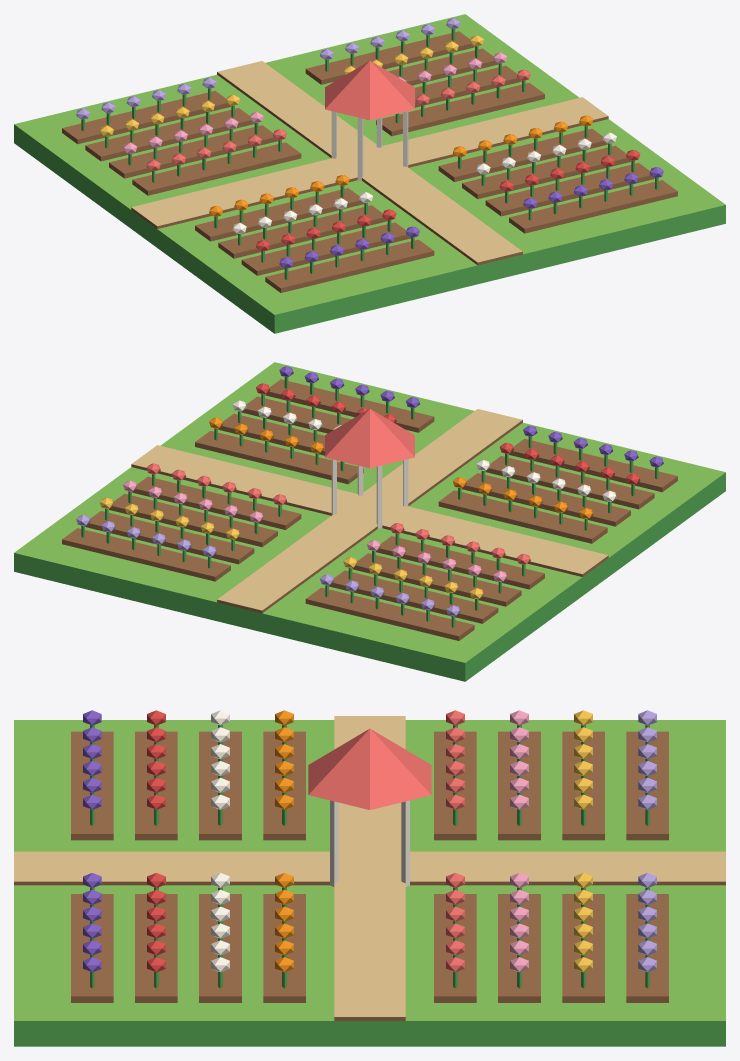
File: park_flower.glb
The picture shows the model from 3 angles, top to bottom: view 1: azimuth 30°, elevation 25°; view 2: azimuth 150°, elevation 25°; view 3: azimuth 270°, elevation 25°; orthographic projection. The views are drawn at different scales.
Parts seen in each view (by area): view 1: park_flower; view 2: park_flower; view 3: park_flower.
Part boxes in pixels (x1,y1,x2,y2): park_flower: (14, 14, 725, 333); park_flower: (14, 362, 725, 681); park_flower: (14, 710, 725, 1046).
Bounding box in the file's own units: 1 × 0.26 × 1.
